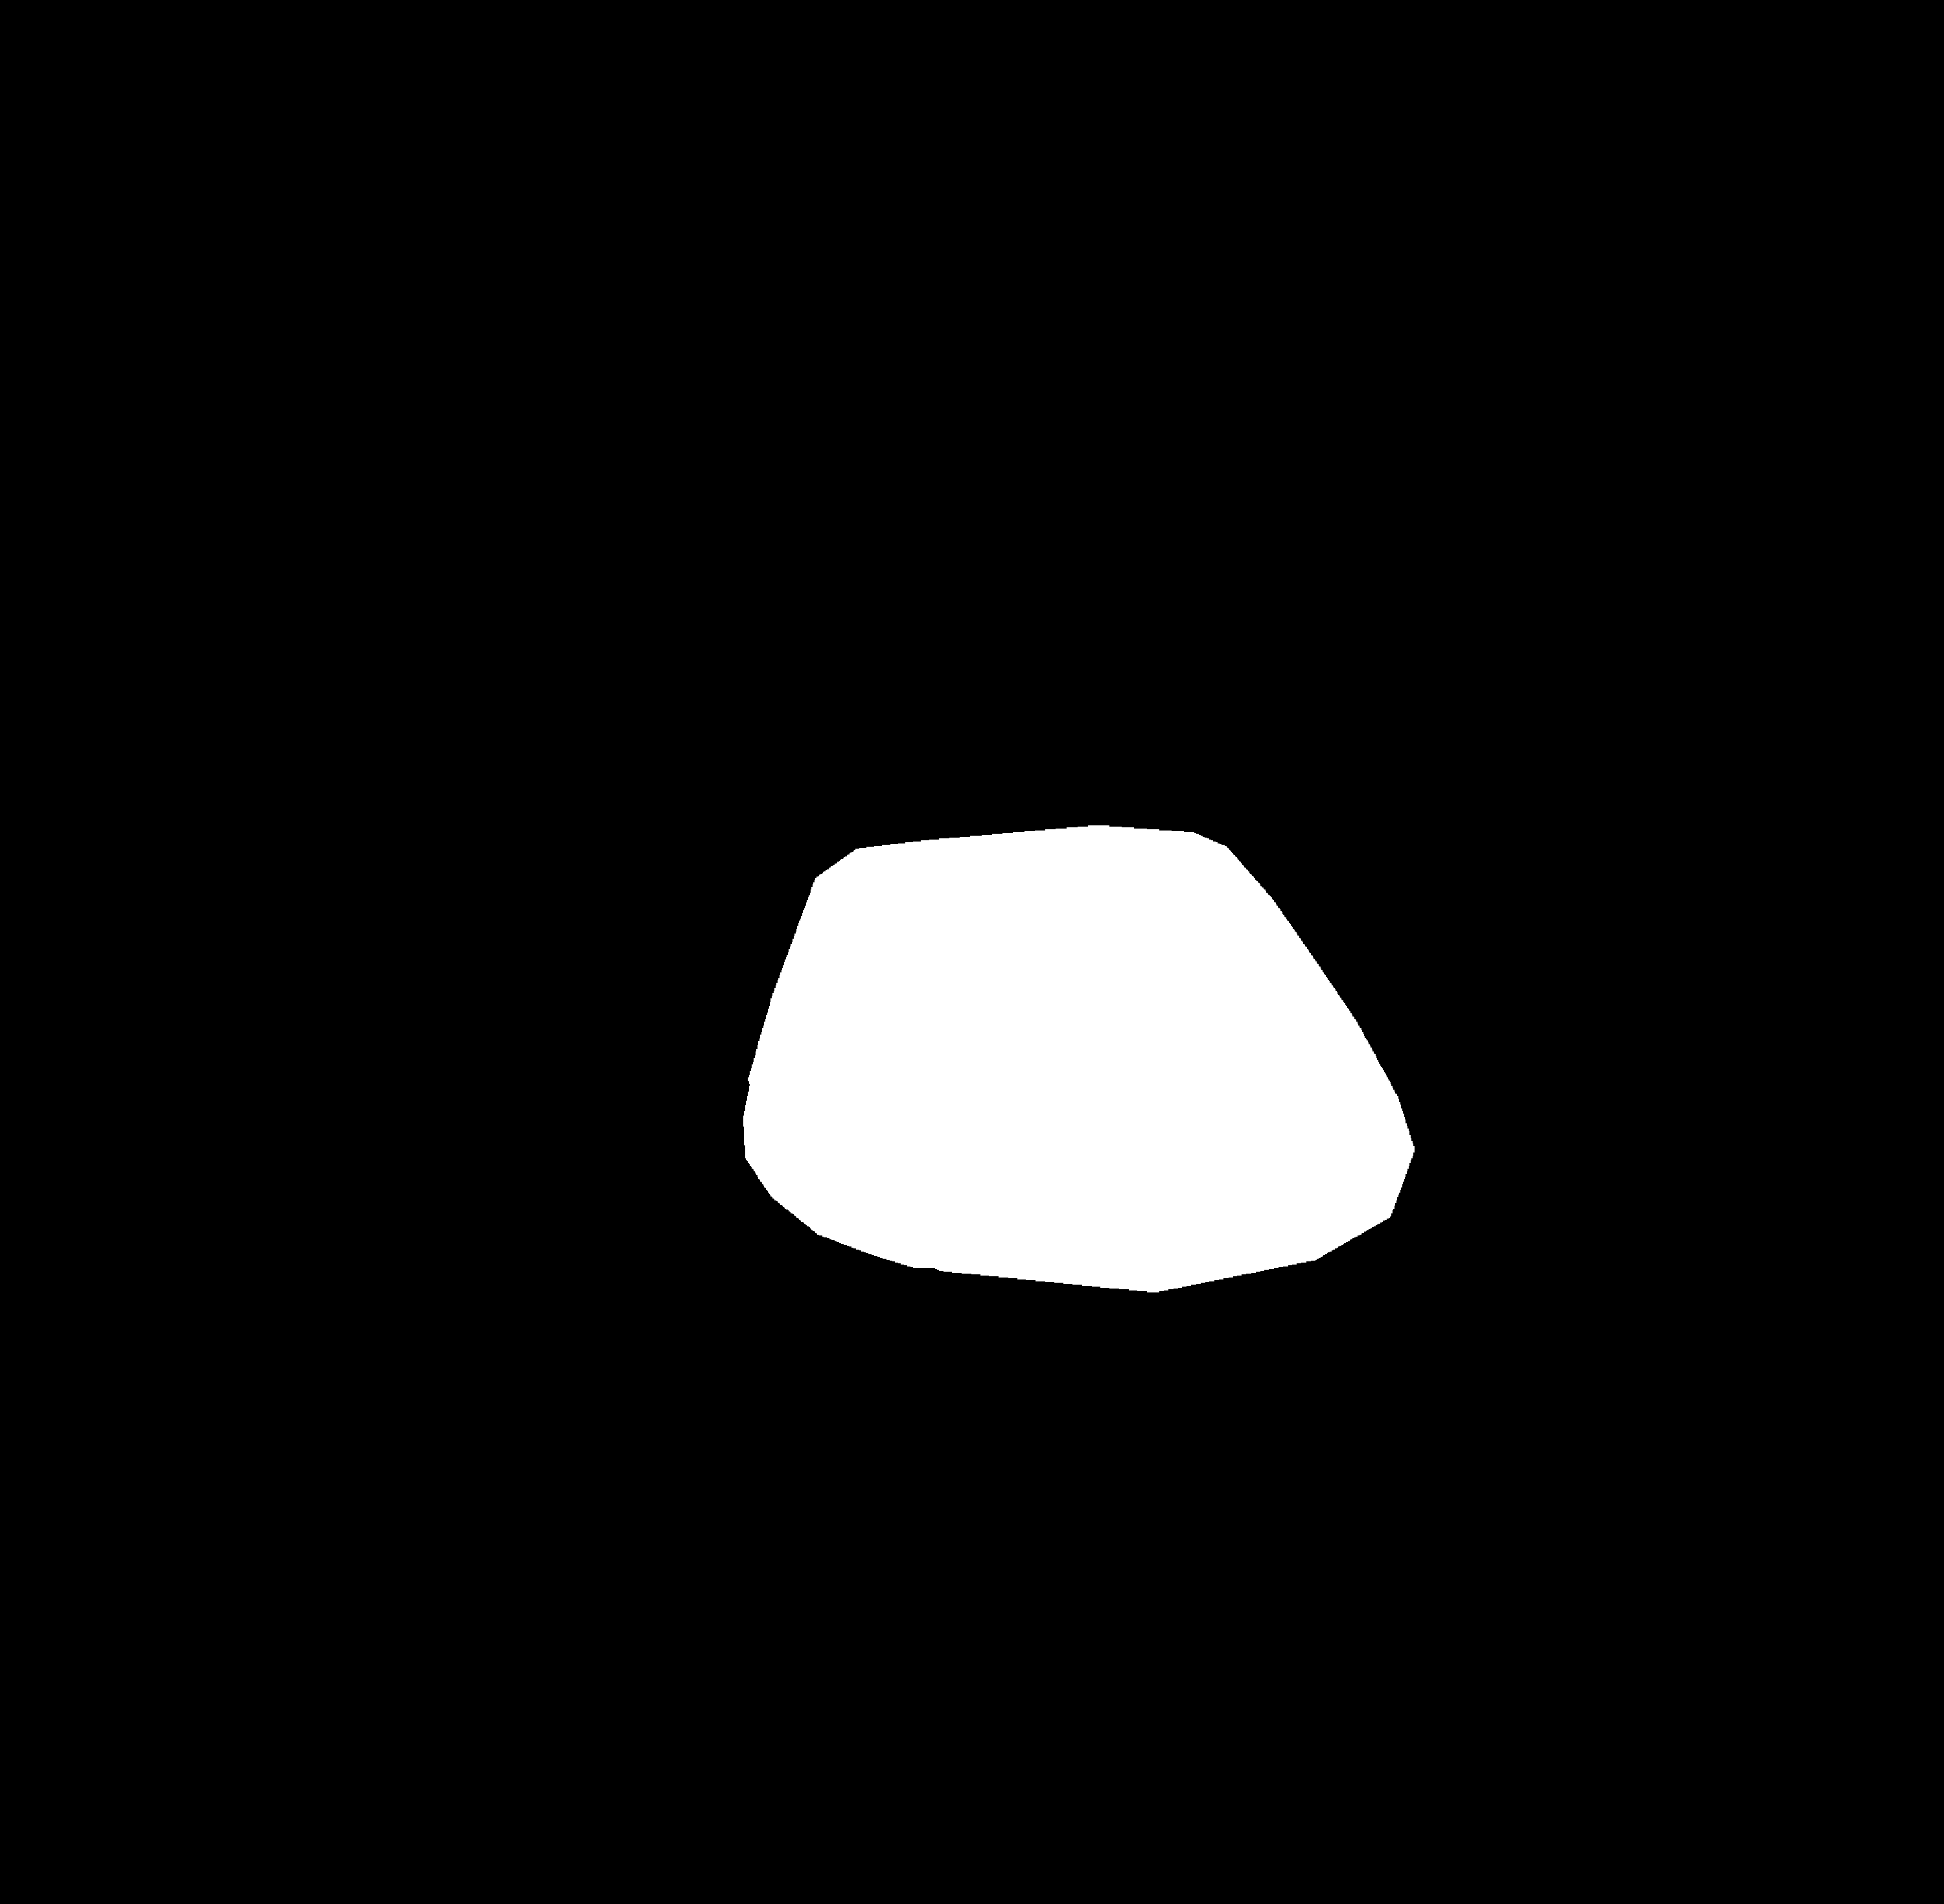heart: (748, 849, 1435, 1229)
left_lung: (302, 228, 919, 1299)
right_lung: (1044, 220, 1614, 1275)
